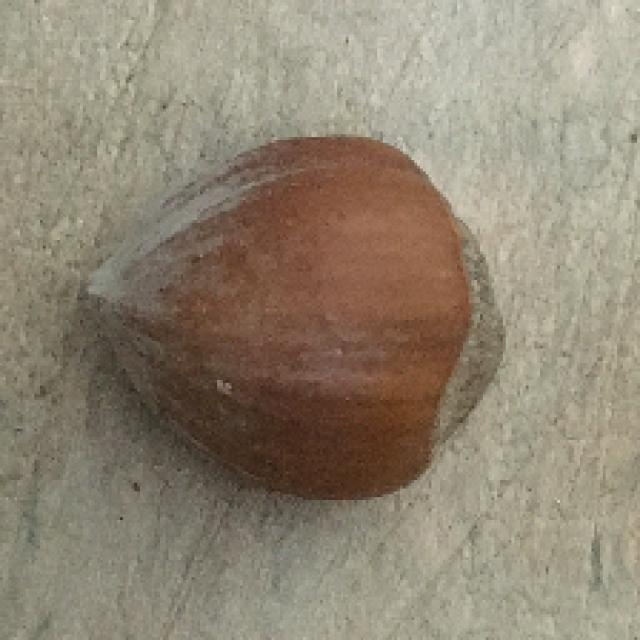qualityHazelnut: (70, 132, 506, 504)
